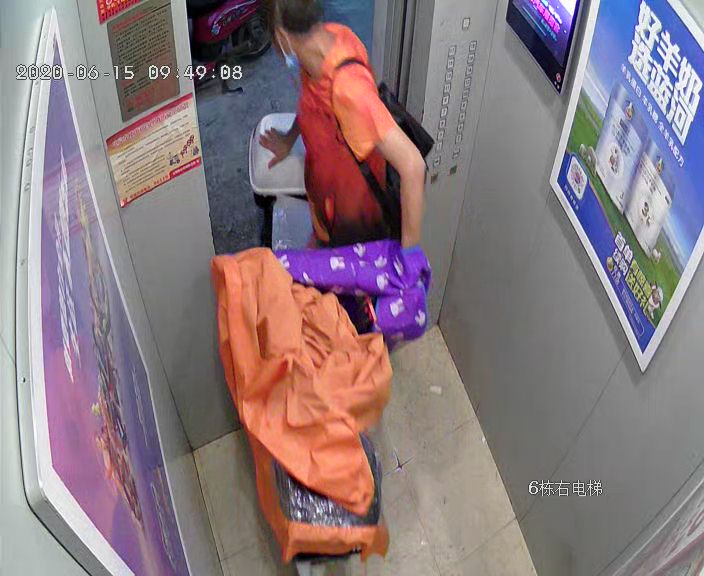Electric-bicycle: (216, 112, 419, 556)
